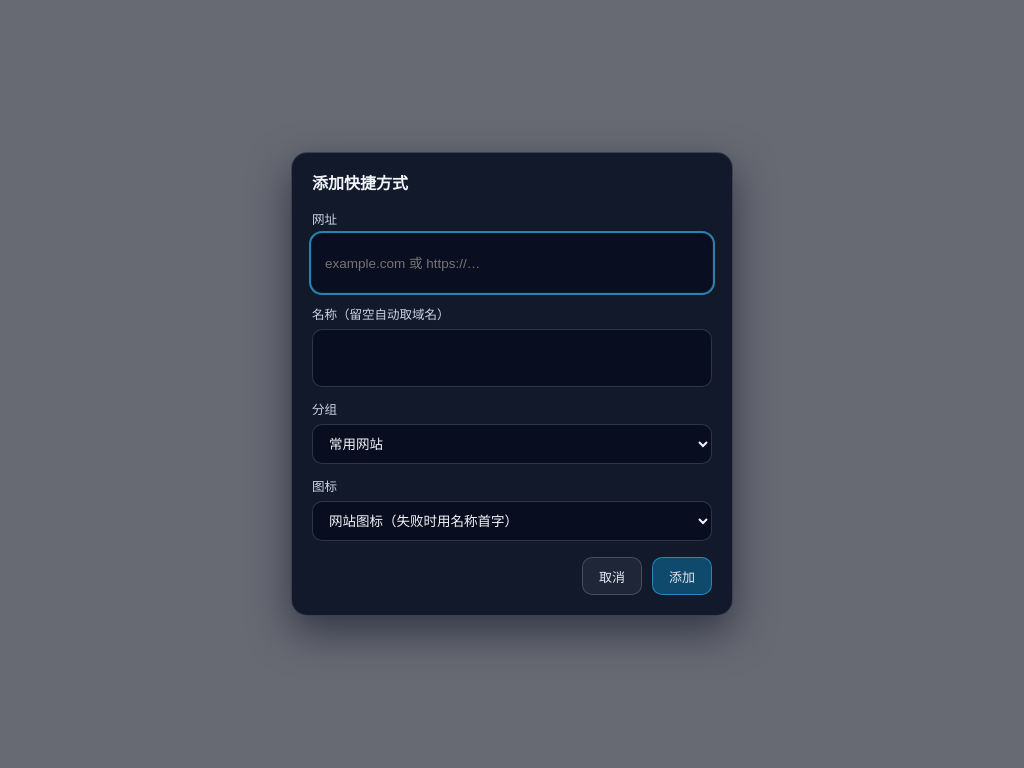
Test: ShortcutQuickAdd 提交 › 非法网址行内报错且不入库
Check: the dialog "添加快捷方式" is shown, box [291,152,733,616]
Type "ht!tp://bad" into the field labelled "网址" at (512, 263), box [312,234,712,292]
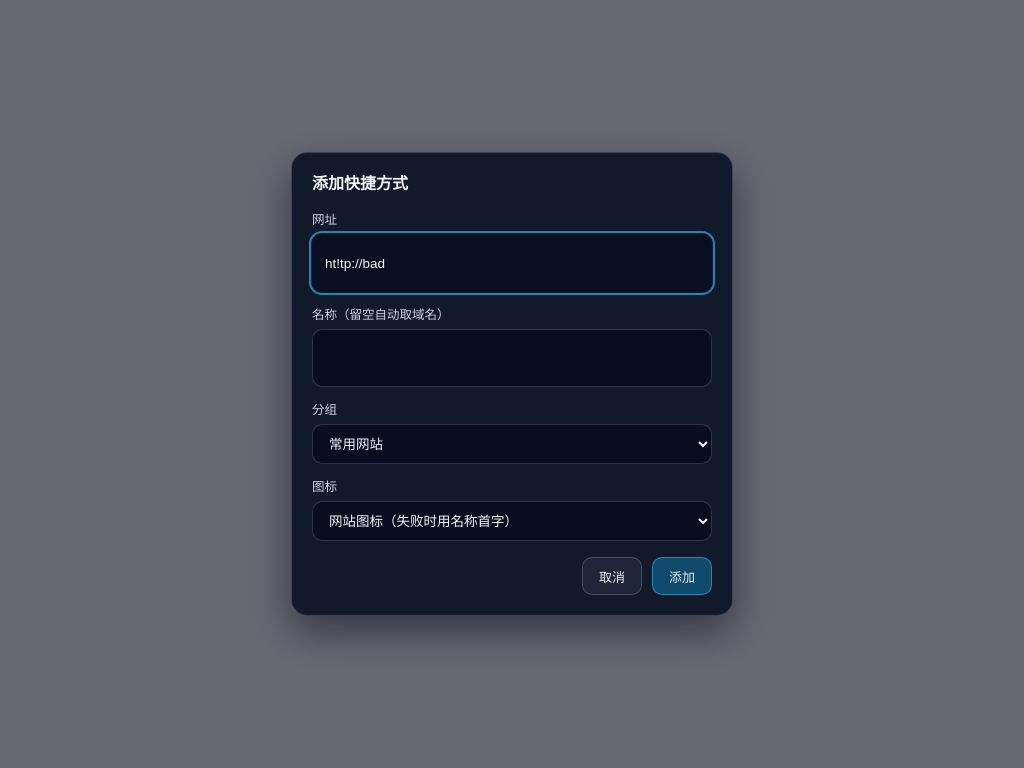
Click the button "添加" at (682, 576), box [652,557,712,595]
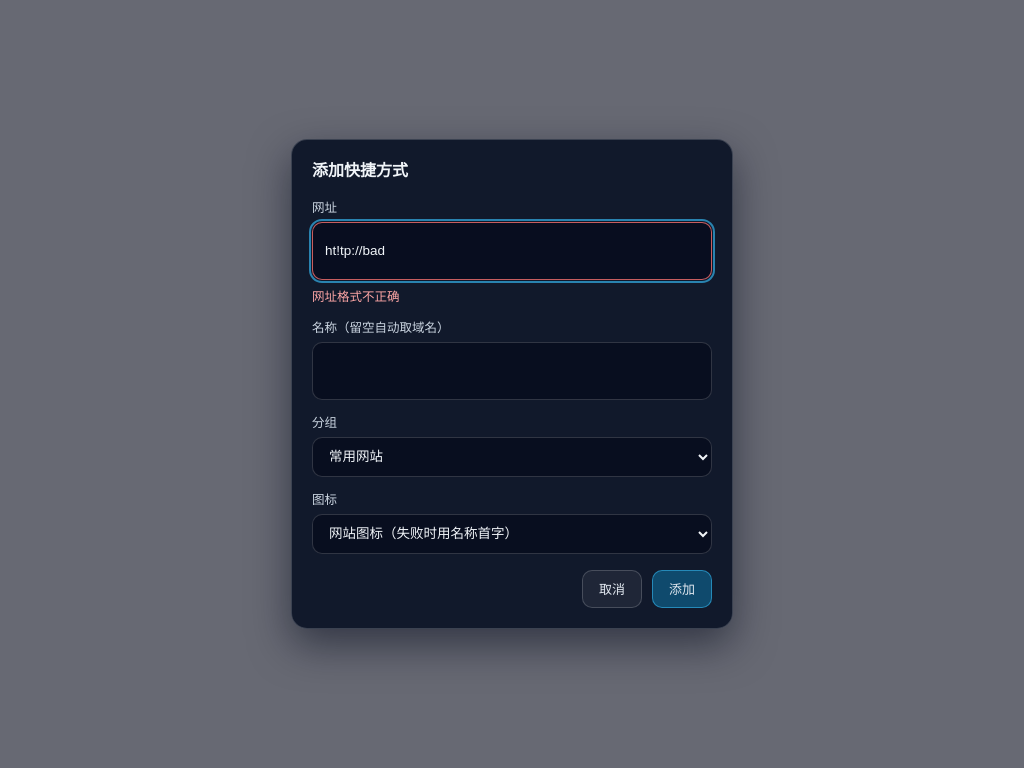
Check: the message reads "网址格式不正确", box [312,290,400,304]
